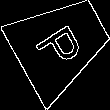P_NE: (32, 15, 90, 73)
